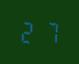seven: (39, 19, 58, 44)
two: (19, 19, 38, 43)
